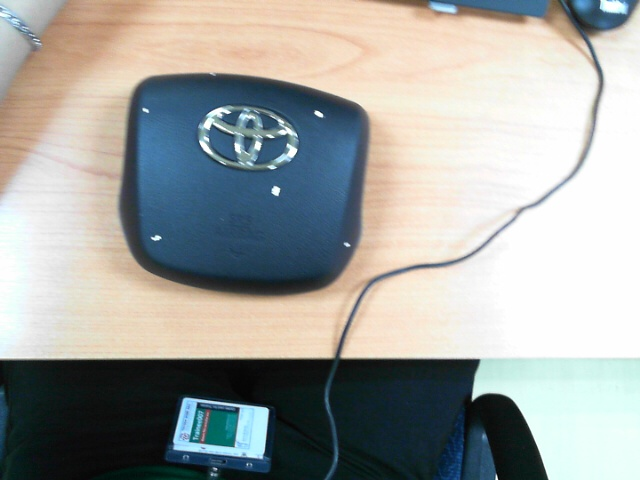Airbag: (271, 185, 281, 197), (313, 109, 324, 118), (150, 234, 163, 241), (343, 241, 352, 248), (142, 107, 150, 113)
